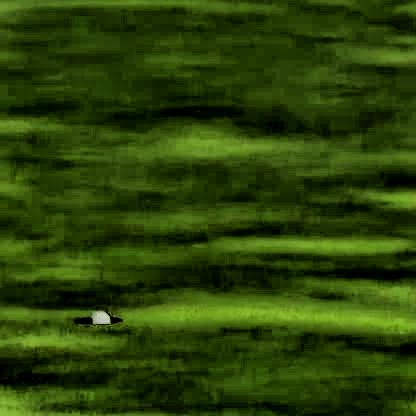golfball: (91, 313, 107, 323)
